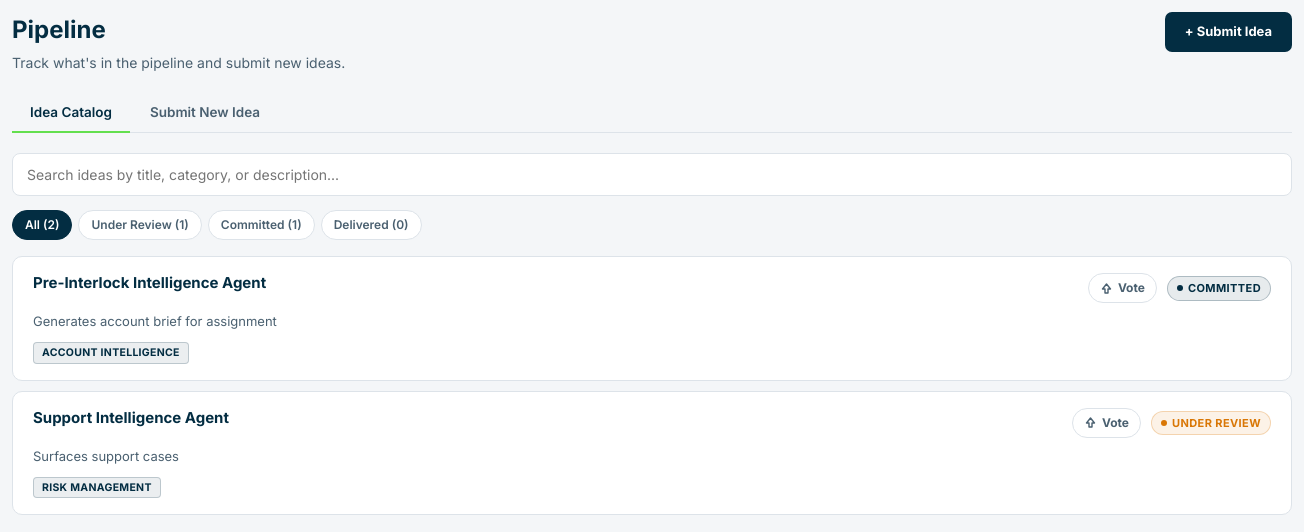
Test: PageIdeaPortal search › filters semantic idea results by selected status
Type "account handoff" into the field with placeholder "Search ideas by title, category, or description...". click: (652, 175)
box: left=12, top=153, right=1292, bottom=196
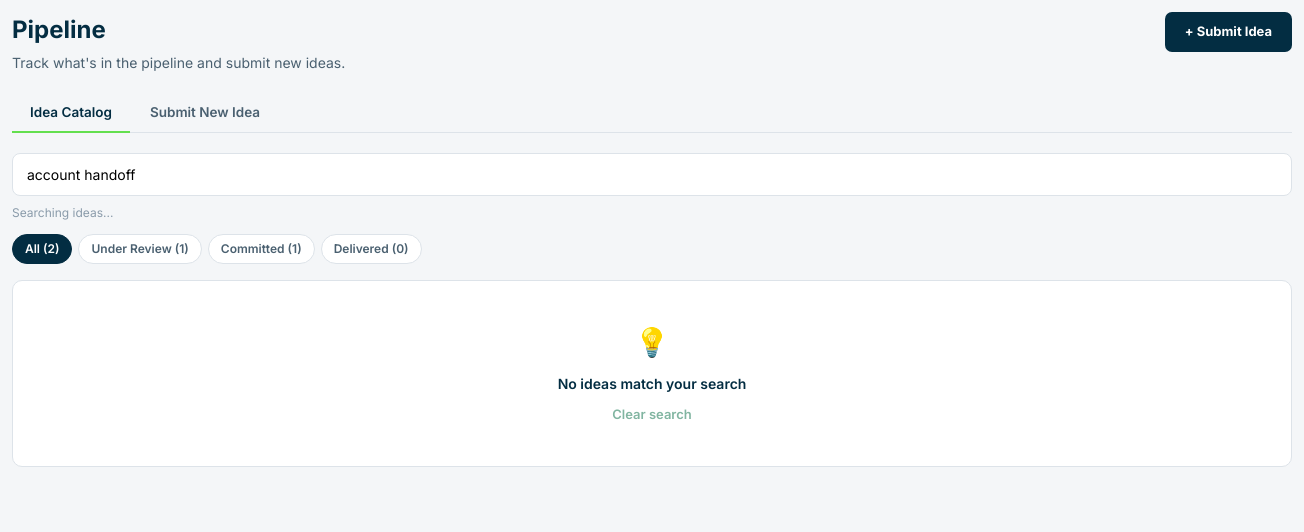
Click the button "Committed (1)". click: (261, 249)
box: left=208, top=234, right=315, bottom=264
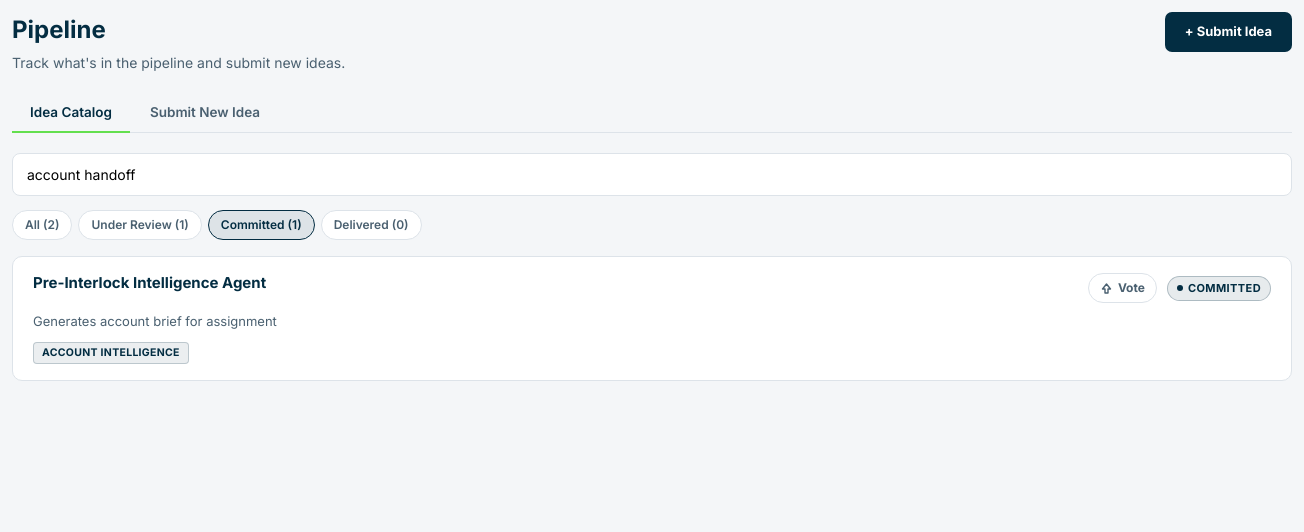
Expected: the text "Support Intelligence Agent" is not shown
Result: the text "Pre-Interlock Intelligence Agent" is shown at left=33, top=273, right=266, bottom=292
